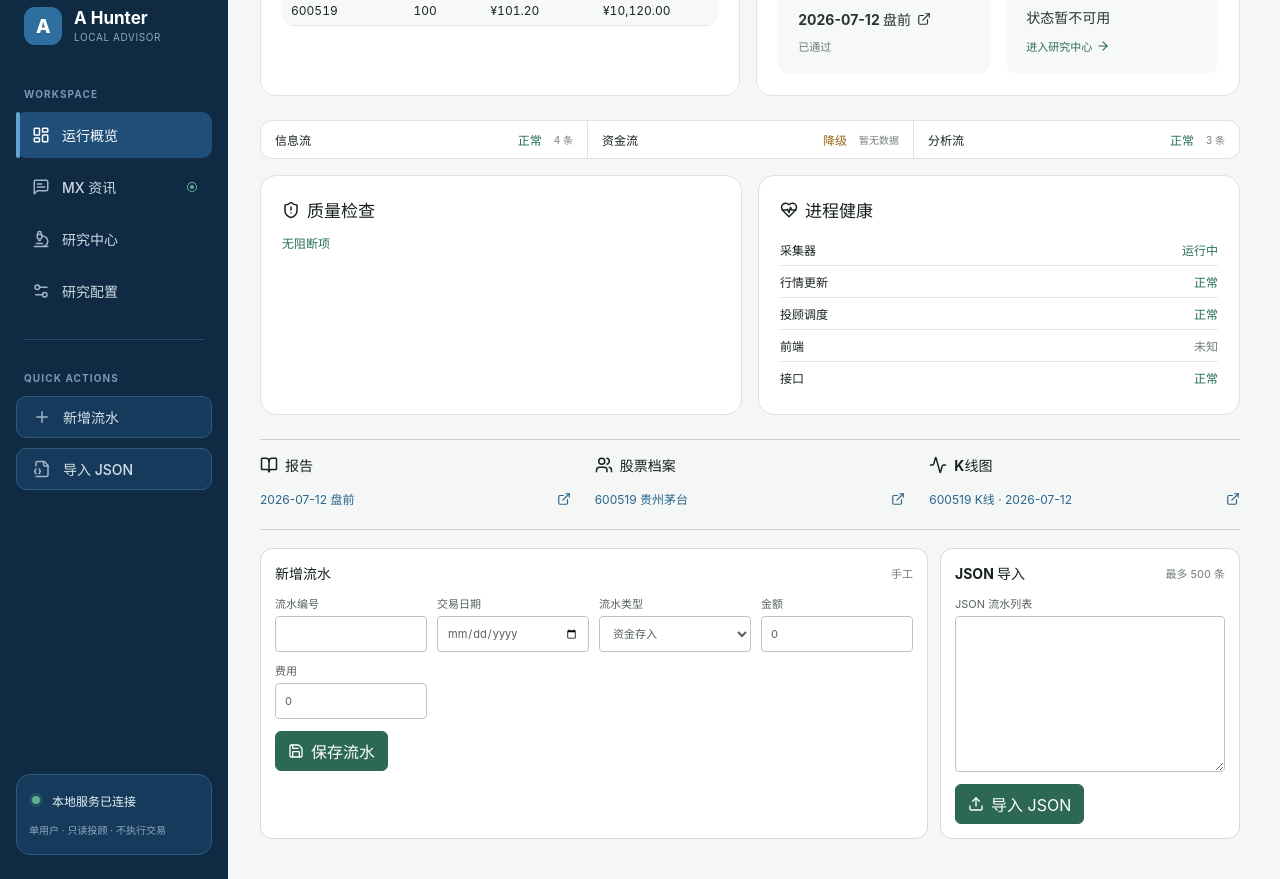
advisor dashboard › preserves manual ledger fields when the API rejects the transaction
(page scrolled)
In the field labelled "流水编号": x=351, y=634 275,616 -> 427,652, type "duplicate-1"
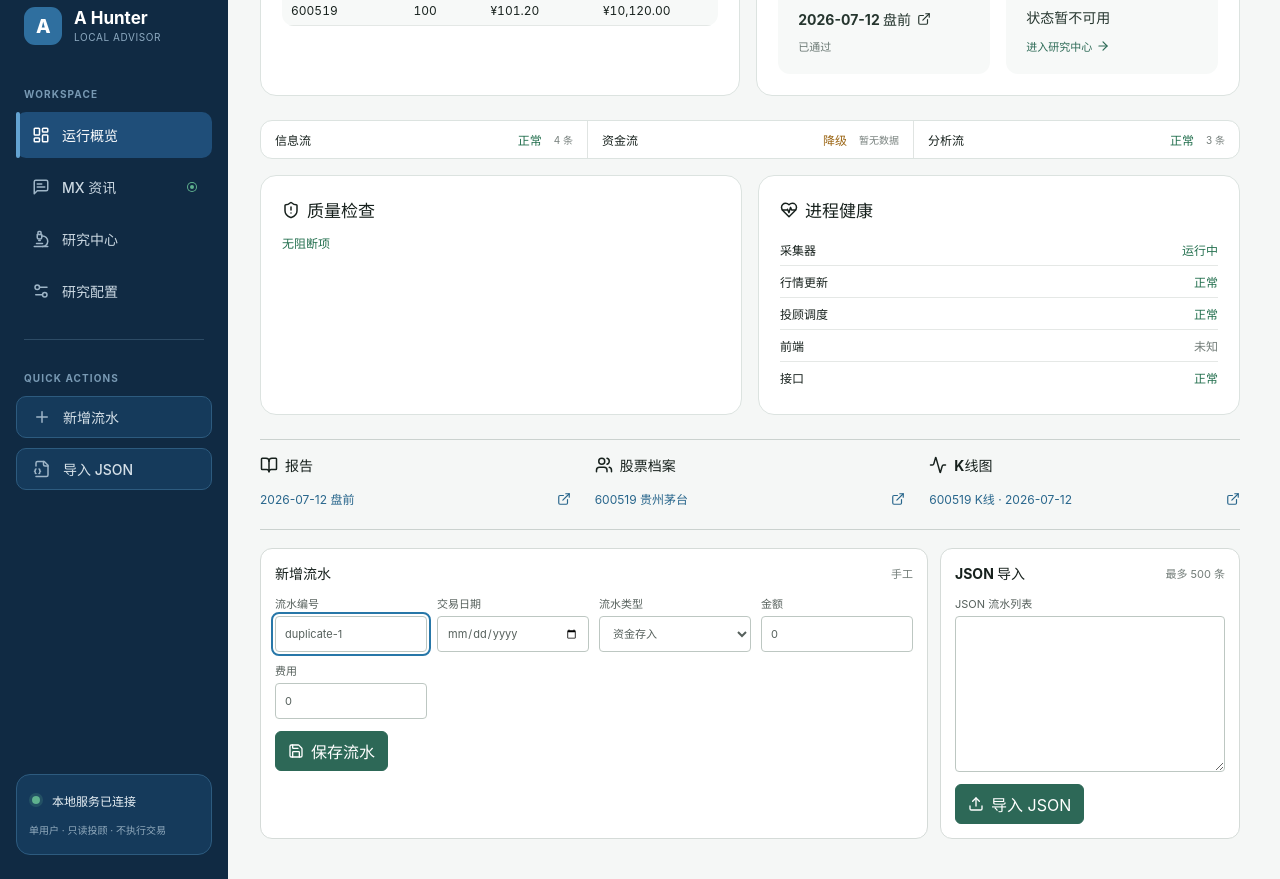
In the date field labelled "交易日期": x=513, y=634 437,616 -> 589,652, type "2026-07-12"
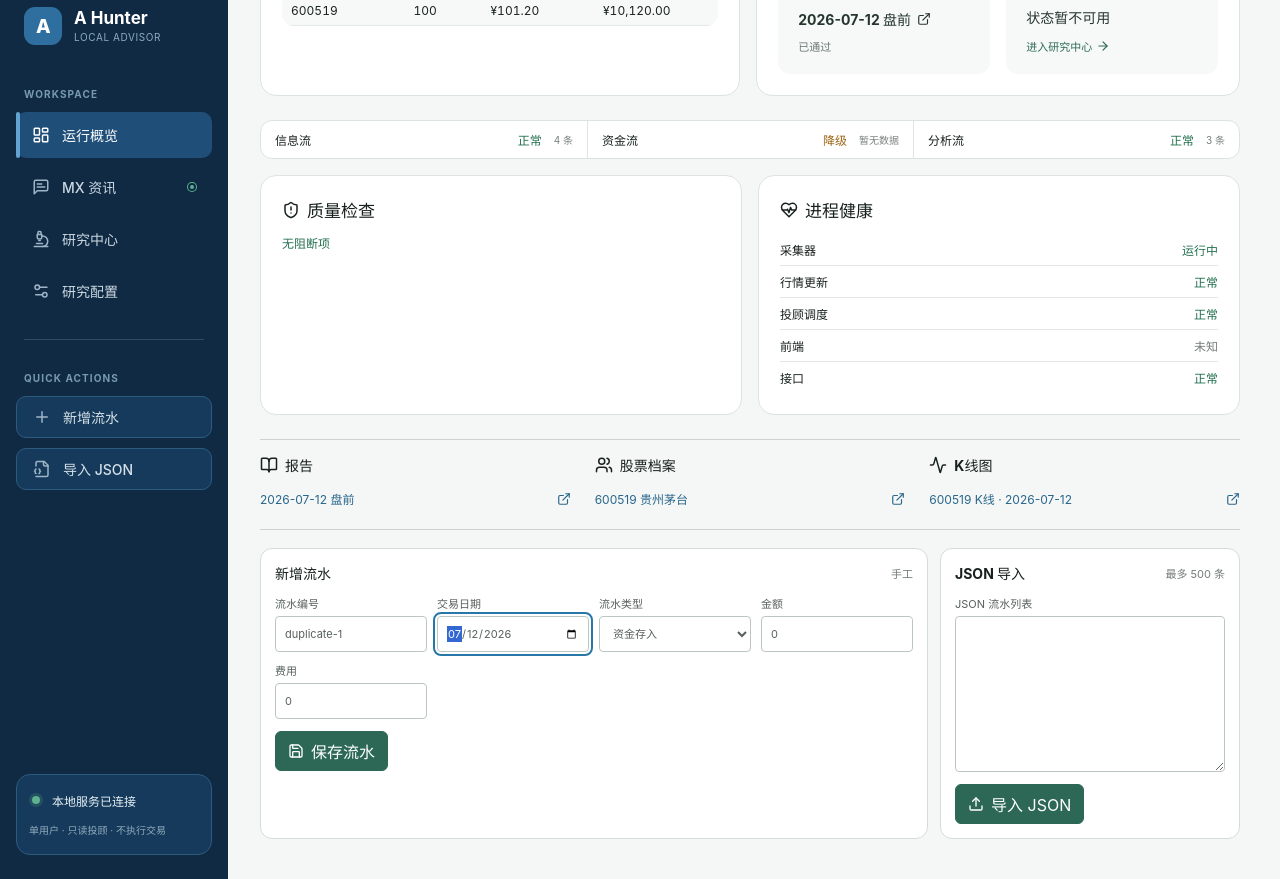
Replace the text in the number field labelled "金额" with "1000": x=837, y=634 761,616 -> 913,652
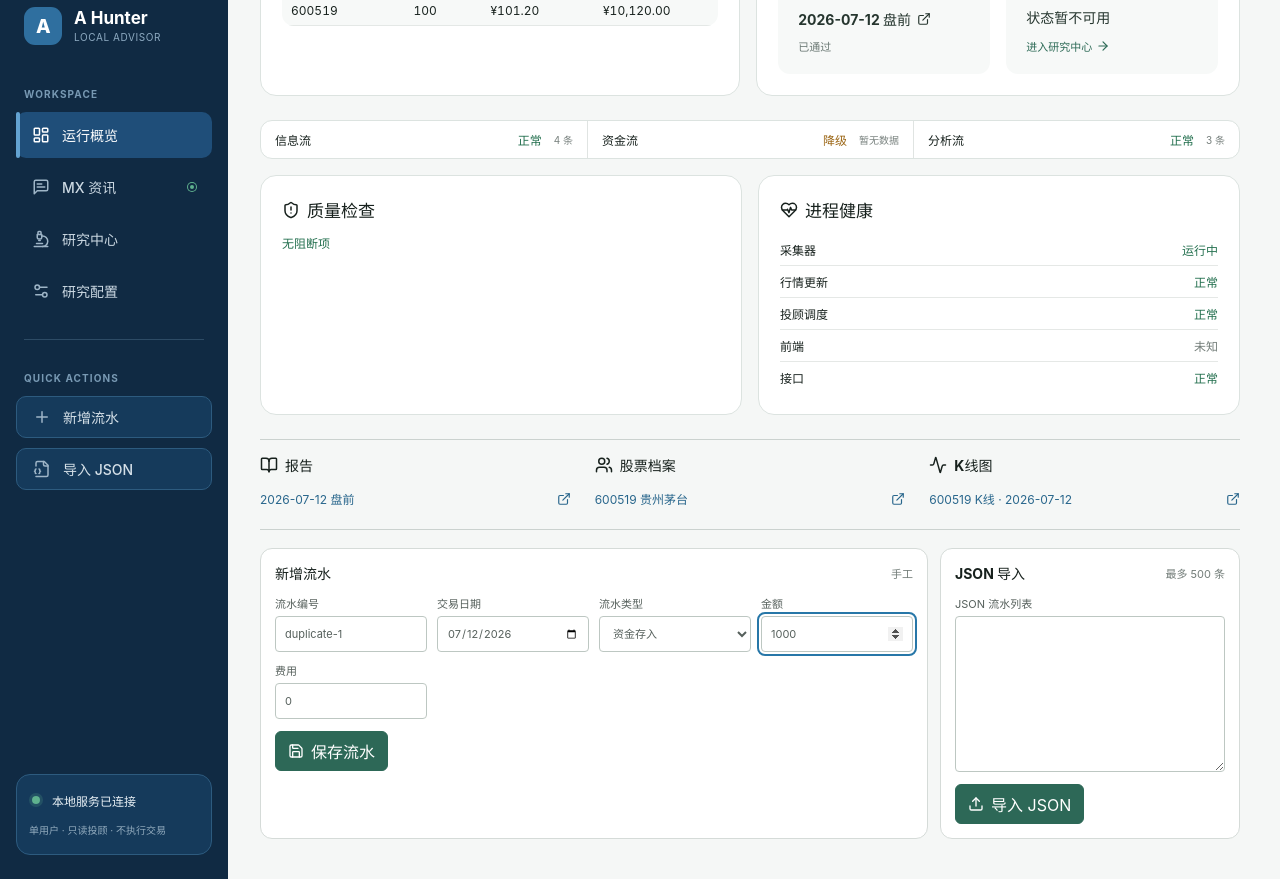
Click the button "保存流水": x=332, y=751 275,731 -> 388,771
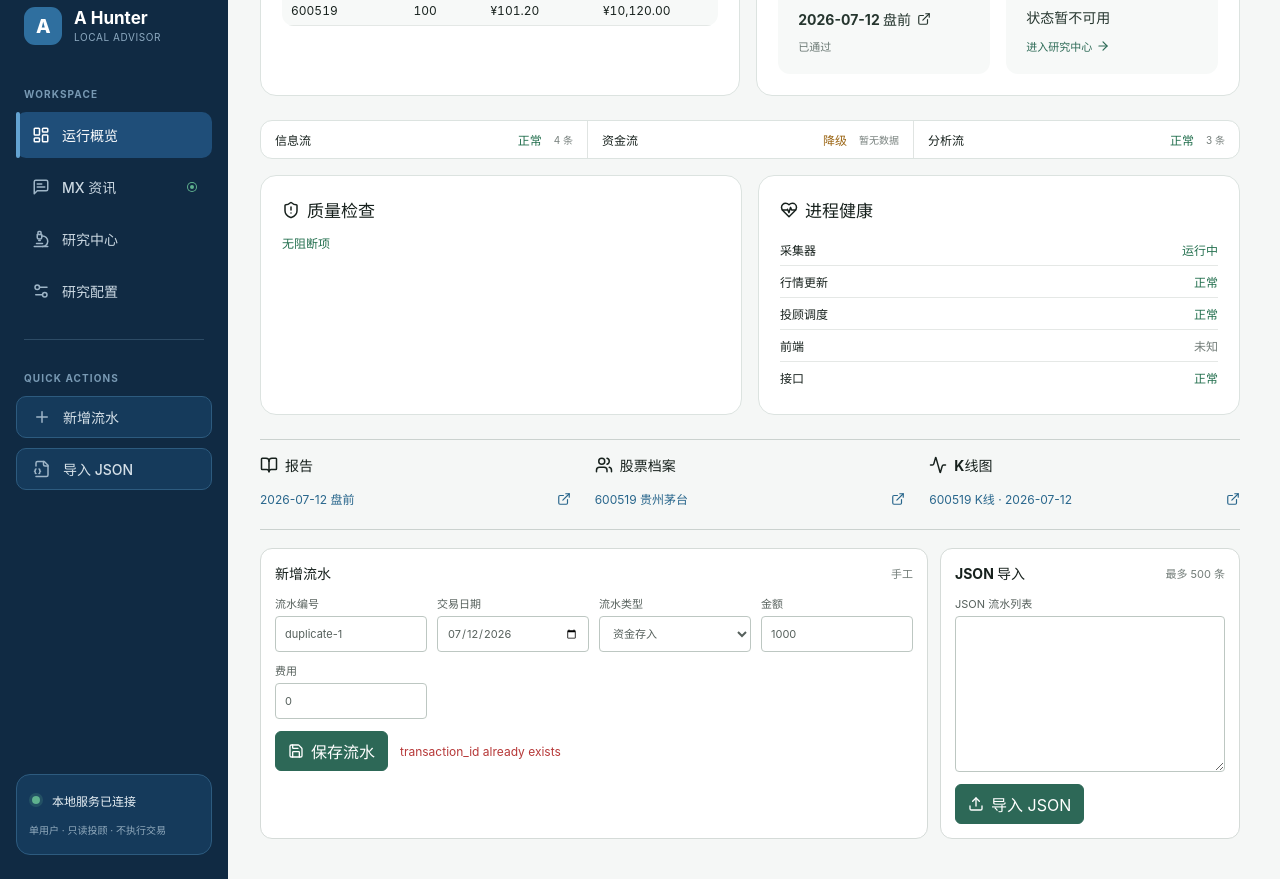
Expected: the text "transaction_id already exists" is shown, 400,744 -> 561,759
